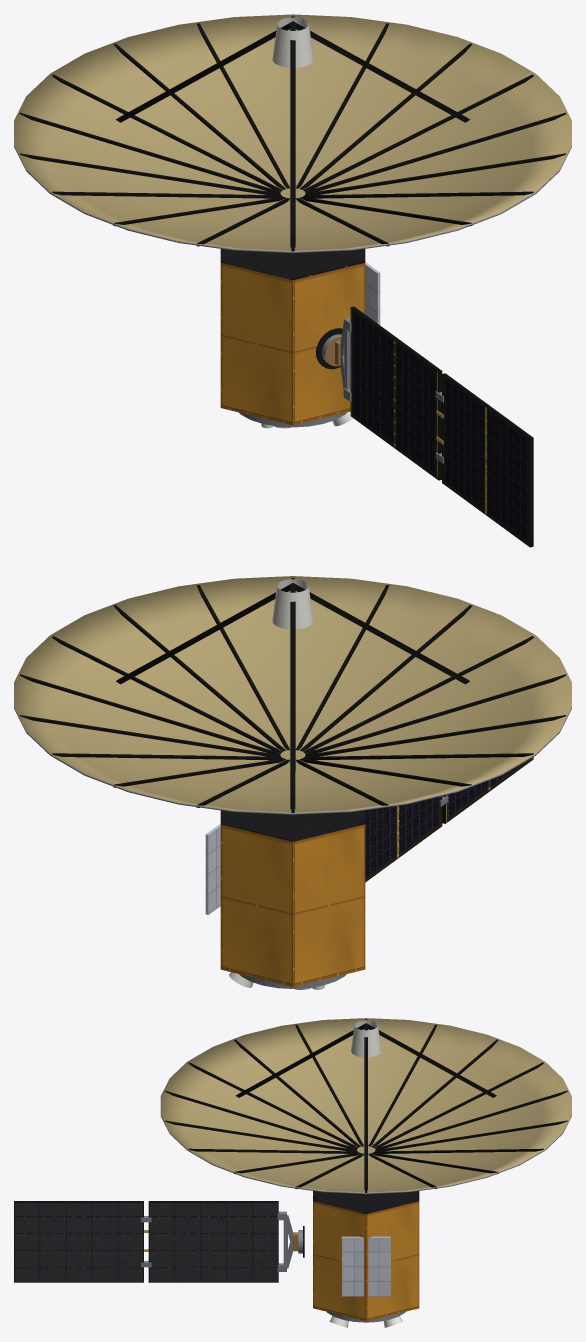
File: qps-sar.glb
The picture shows the model from 3 angles, top to bottom: view 1: azimuth 30°, elevation 25°; view 2: azimuth 150°, elevation 25°; view 3: azimuth 270°, elevation 25°; orthographic projection. The views are drawn at different scales.
Visible parts, largest first — view 1: bus, wing-Y, sadm_-Y; view 2: bus, wing-Y; view 3: bus, wing-Y.
Part boxes in pixels (bbox=[...]): bus: bbox=[14, 14, 571, 428]; wing-Y: bbox=[335, 306, 533, 547]; sadm_-Y: bbox=[316, 328, 342, 369]; bus: bbox=[14, 576, 571, 989]; wing-Y: bbox=[365, 757, 533, 882]; bus: bbox=[160, 1018, 571, 1327]; wing-Y: bbox=[14, 1201, 298, 1282].
Bounding box in the file's own units: 3.5 × 2.73 × 4.72.
14 materials, 5 textured.
